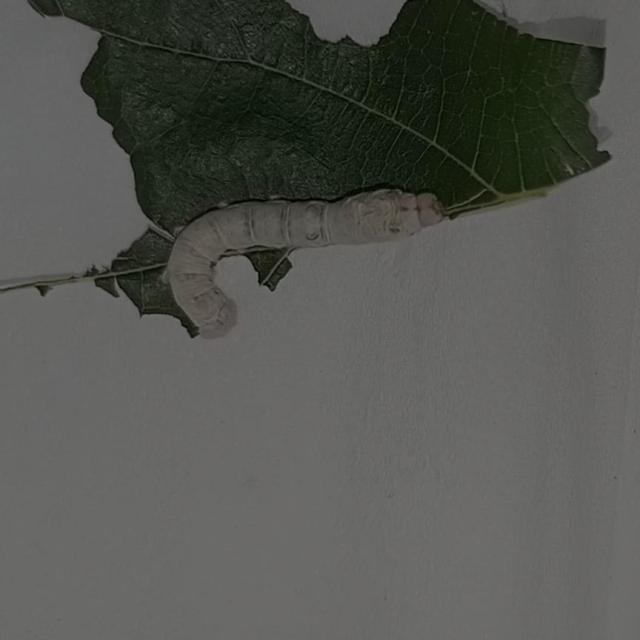Healthy: (160, 164, 450, 348)
